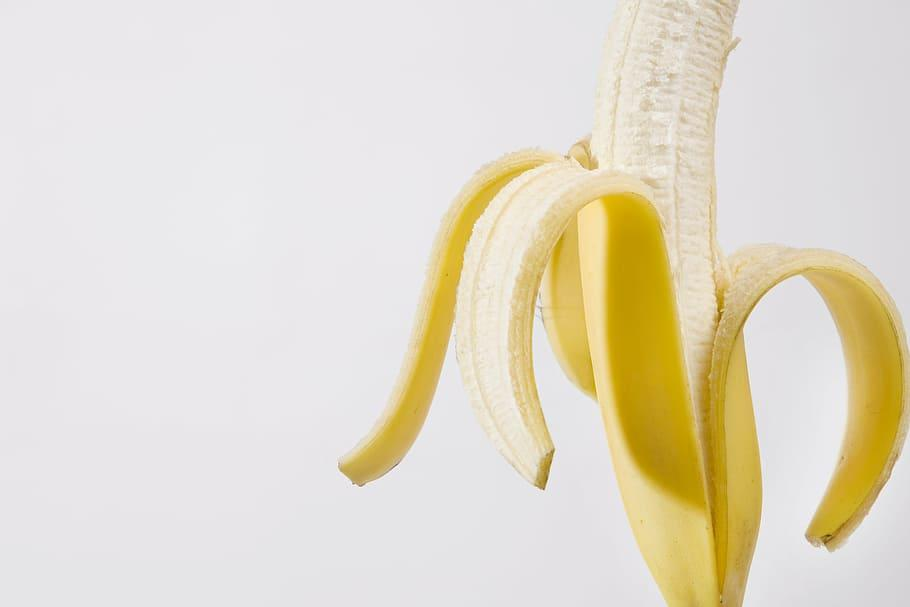non-mango: (337, 0, 908, 604)
